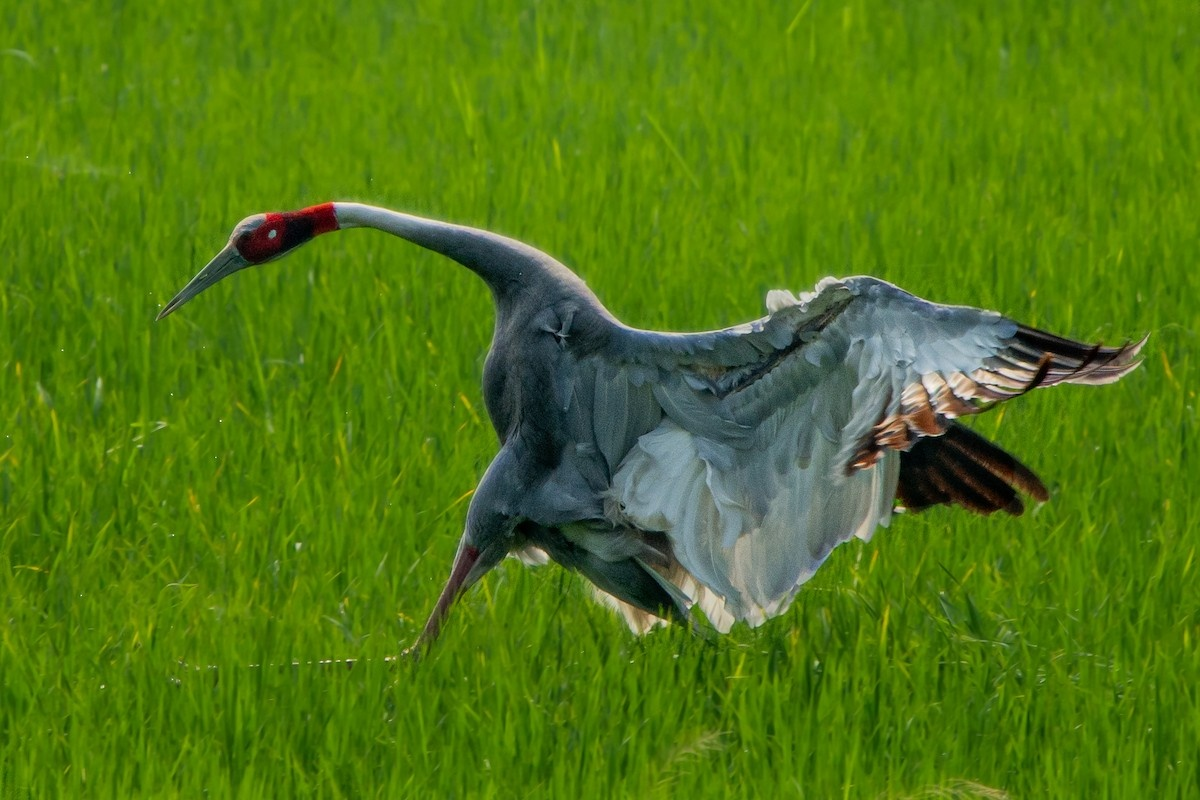crane: (154, 197, 1157, 668)
